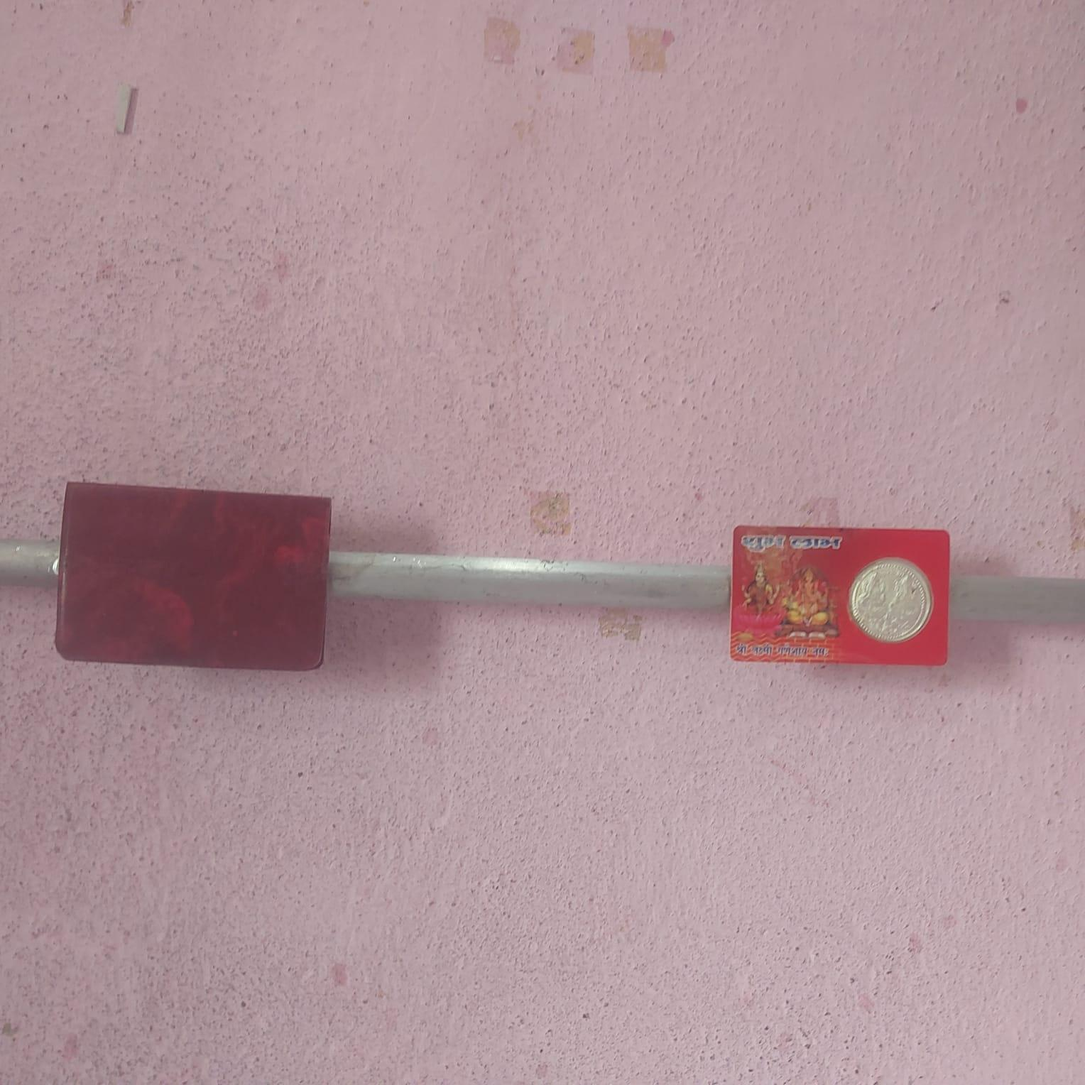blessing_card: (726, 520, 954, 670)
wallet: (50, 473, 334, 670)
